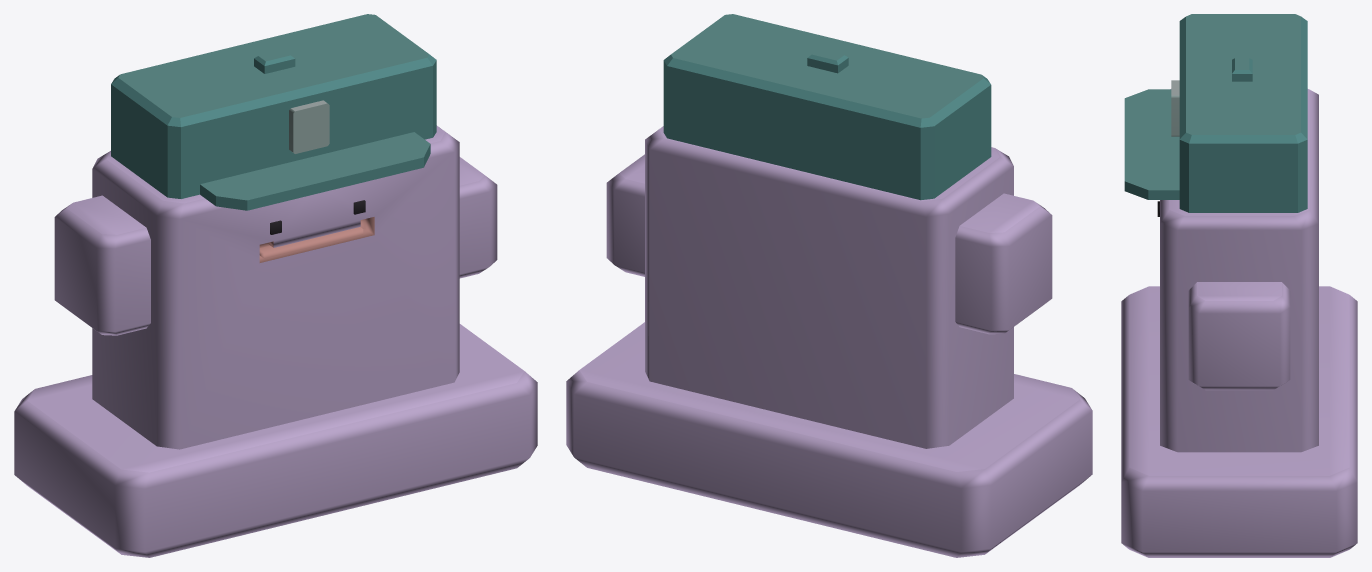
Rendered from PM132_BaseballCap.fbx.
The picture shows the model from 3 angles, left to right: view 1: azimuth 30°, elevation 25°; view 2: azimuth 150°, elevation 25°; view 3: azimuth 270°, elevation 25°; orthographic projection. The views are drawn at different scales.
Visible parts, largest first — view 1: model; view 2: model; view 3: model.
Part boxes in pixels (<box>): model: <box>14,14,537,557</box>; model: <box>566,14,1092,557</box>; model: <box>1121,14,1357,557</box>.
Size of the model in its own units: 1.83 by 1.72 by 0.9217.
